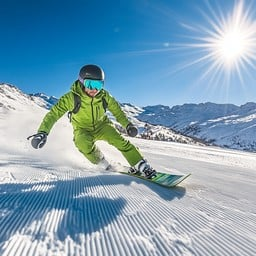snowboarder: (26, 62, 192, 195)
